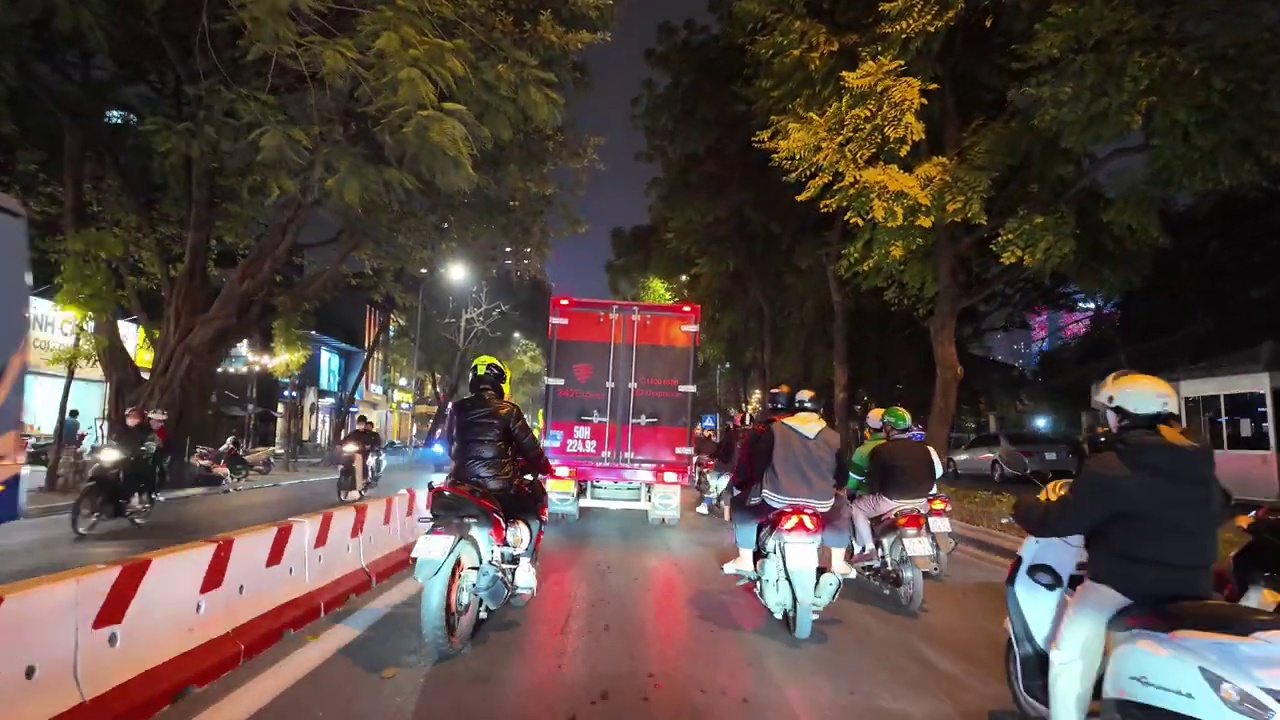acesa: (440, 259, 473, 287)
